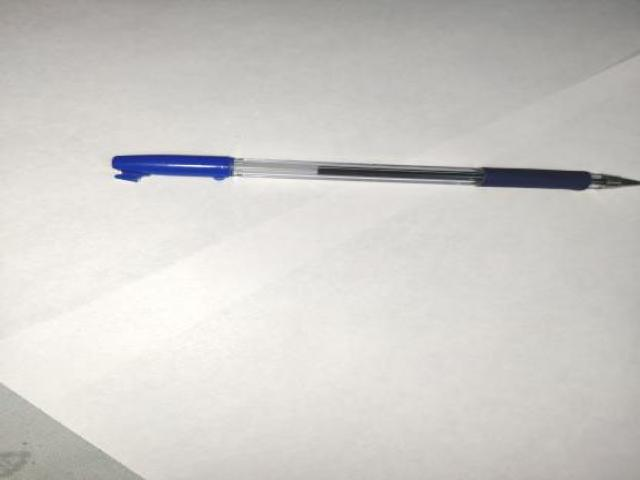PEN: (100, 142, 640, 204)
